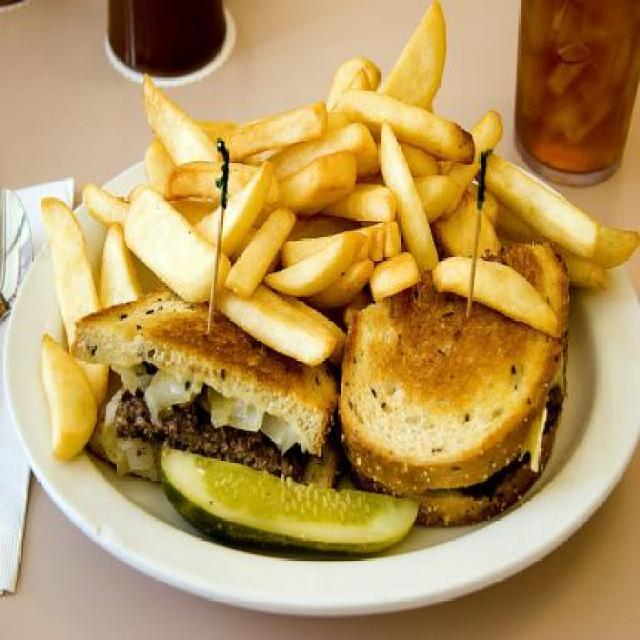Sandwich: (334, 240, 572, 532), (69, 284, 340, 478)
